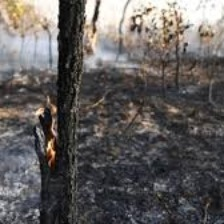incendio: (24, 18, 67, 69), (89, 46, 127, 73)
